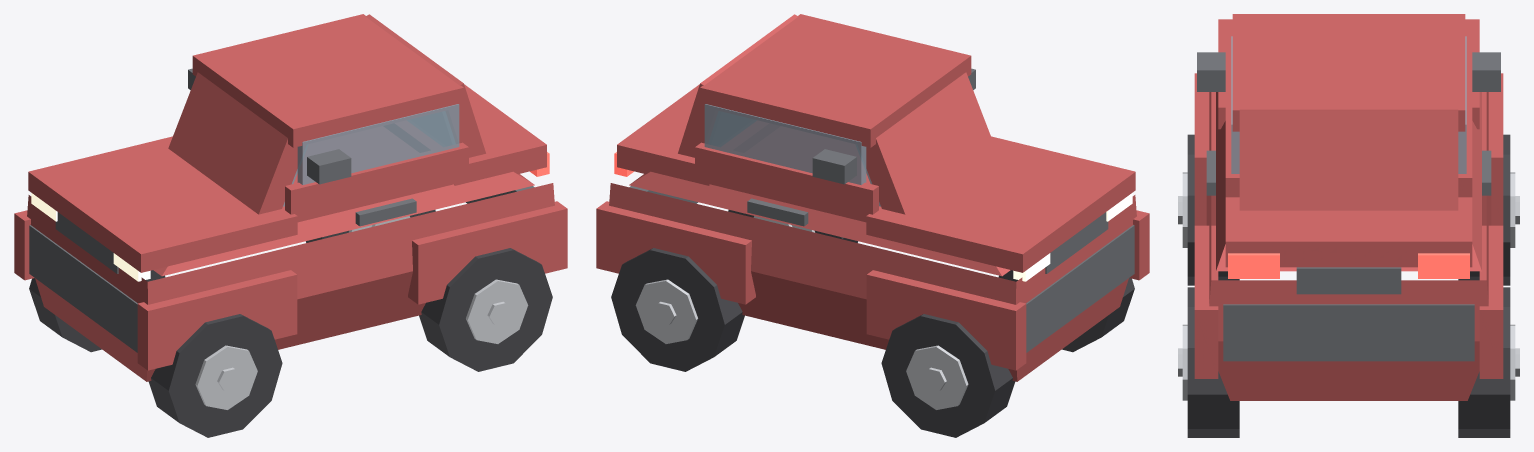
Rendered from car.glb.
3 renders of one model, left to right at view 1: azimuth 30°, elevation 25°; view 2: azimuth 150°, elevation 25°; view 3: azimuth 270°, elevation 25°, orthographic. The views are drawn at different scales.
Visible parts, largest first — view 1: cb, wh, trim, cc, rim, lampf; view 2: cb, wh, trim, cc, rim, lampf; view 3: cb, trim, wh, lampr, rim, cc.
Boxes of the visible parts, <box> form: cb: <box>14,14,567,381</box>; wh: <box>29,210,552,437</box>; trim: <box>29,68,534,352</box>; cc: <box>283,104,459,206</box>; rim: <box>195,216,528,409</box>; lampf: <box>31,193,150,281</box>; cb: <box>596,14,1149,381</box>; wh: <box>611,210,1134,437</box>; trim: <box>629,68,1134,352</box>; cc: <box>704,104,880,206</box>; rim: <box>635,216,968,409</box>; lampf: <box>1013,193,1132,281</box>; cb: <box>1194,14,1503,400</box>; trim: <box>1197,52,1500,361</box>; wh: <box>1187,134,1510,437</box>; lampr: <box>1228,253,1469,278</box>; rim: <box>1178,172,1519,400</box>; cc: <box>1231,36,1466,173</box>.
Size of the model in its own units: 1.18 by 0.7257 by 0.72.
